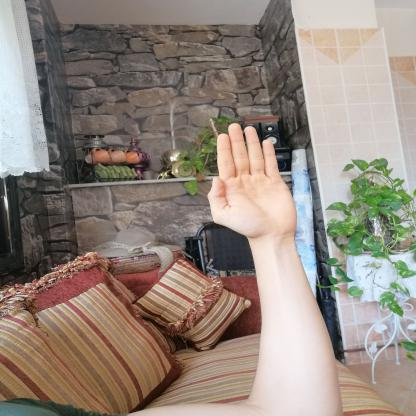SEEN: (196, 116, 310, 245)
